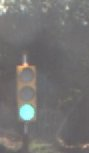Green: (11, 55, 44, 129)
